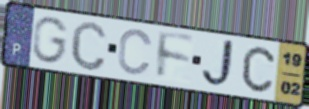C: (69, 19, 109, 73), (116, 27, 155, 77), (241, 45, 276, 94)
F: (156, 28, 196, 82)
G: (31, 15, 71, 66)
J: (200, 38, 239, 90)
